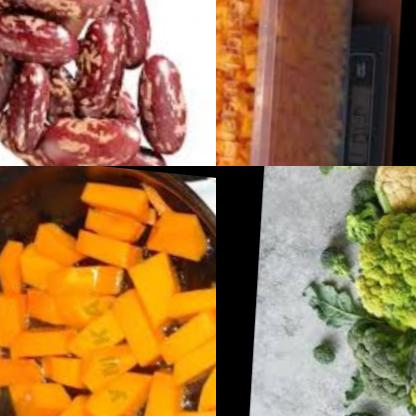broccoli: (343, 307, 416, 398), (321, 167, 379, 276), (336, 396, 402, 416), (311, 335, 340, 370)
cayliflower: (344, 202, 416, 334), (370, 166, 416, 218)
fasol: (0, 0, 216, 166)
pumpkin: (0, 166, 216, 416), (216, 0, 274, 166)
